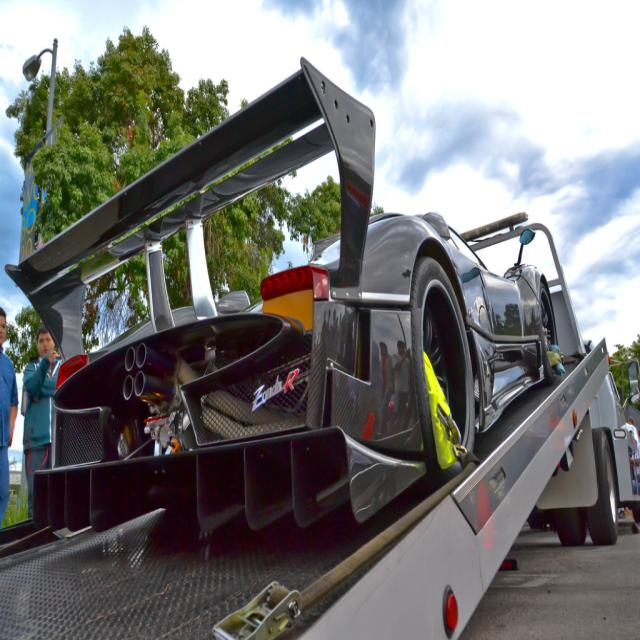car: (5, 52, 564, 530)
